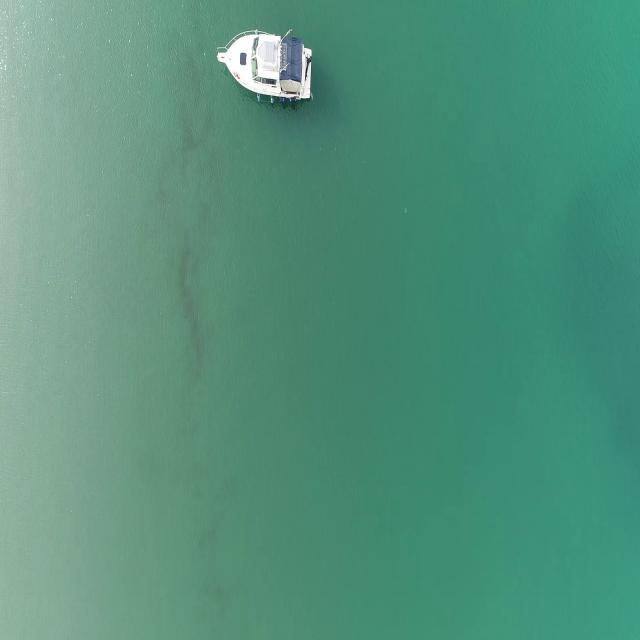boat: (214, 29, 316, 108)
